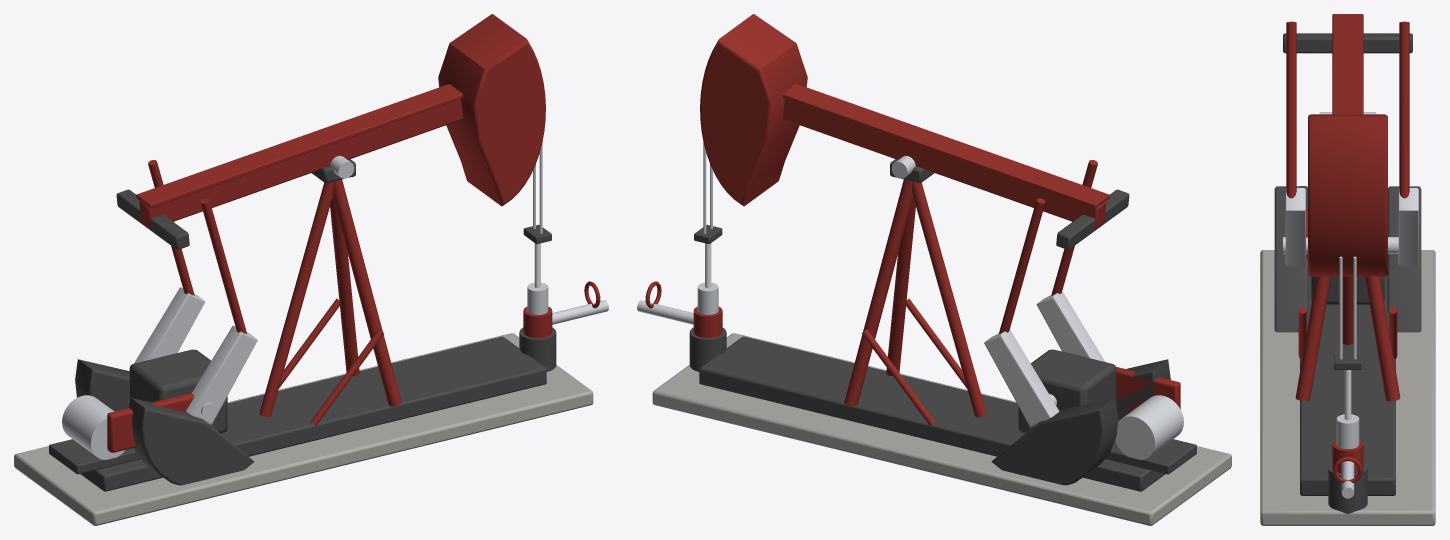
Rendered from pumpjack.glb.
3 renders of one model, left to right at view 1: azimuth 30°, elevation 25°; view 2: azimuth 150°, elevation 25°; view 3: azimuth 270°, elevation 25°, orthographic. The views are drawn at different scales.
Visible parts, largest first — view 1: pad, skid, head, beam, cweight, beamcap, gearbox, leg, legb, crank, crank.001, motor (+11 smaller); view 2: pad, skid, head, cweight.001, beam, beamcap, gearbox, leg.001, crank.001, motor, legb, crank (+11 smaller); view 3: pad, head, skid, beamcap, cweight, cweight.001, leg, leg.001, pitman.001, pitman, equal, crank (+15 smaller).
Part boxes in pixels (x1=…): pad: x1=14, y1=333, x2=593, y2=525; skid: x1=80, y1=336, x2=546, y2=491; head: x1=438, y1=14, x2=545, y2=206; beam: x1=139, y1=99, x2=462, y2=229; cweight: x1=129, y1=397, x2=254, y2=485; beamcap: x1=136, y1=84, x2=462, y2=208; gearbox: x1=129, y1=349, x2=227, y2=433; leg: x1=332, y1=179, x2=401, y2=406; legb: x1=259, y1=181, x2=333, y2=417; crank: x1=186, y1=325, x2=257, y2=424; crank.001: x1=134, y1=287, x2=205, y2=363; motor: x1=62, y1=395, x2=125, y2=459; pad: x1=652, y1=333, x2=1231, y2=525; skid: x1=699, y1=336, x2=1165, y2=491; head: x1=700, y1=14, x2=807, y2=206; cweight.001: x1=991, y1=397, x2=1118, y2=485; beam: x1=783, y1=99, x2=1106, y2=229; beamcap: x1=783, y1=84, x2=1109, y2=208; gearbox: x1=1018, y1=349, x2=1116, y2=433; leg.001: x1=844, y1=179, x2=913, y2=406; crank.001: x1=984, y1=329, x2=1059, y2=427; motor: x1=1115, y1=395, x2=1183, y2=459; legb: x1=912, y1=181, x2=986, y2=417; crank: x1=1036, y1=291, x2=1104, y2=361; pad: x1=1260, y1=250, x2=1435, y2=525; head: x1=1308, y1=114, x2=1387, y2=276; skid: x1=1300, y1=275, x2=1395, y2=495; beamcap: x1=1332, y1=14, x2=1363, y2=114; cweight: x1=1274, y1=186, x2=1308, y2=332; cweight.001: x1=1387, y1=186, x2=1421, y2=332; leg: x1=1295, y1=276, x2=1330, y2=401; leg.001: x1=1365, y1=276, x2=1400, y2=401; pitman.001: x1=1399, y1=21, x2=1409, y2=198; pitman: x1=1286, y1=21, x2=1296, y2=198; equal: x1=1283, y1=33, x2=1412, y2=53; crank: x1=1285, y1=188, x2=1305, y2=265.
Size of the model in its own units: 2.43 by 1.51 by 0.62.
